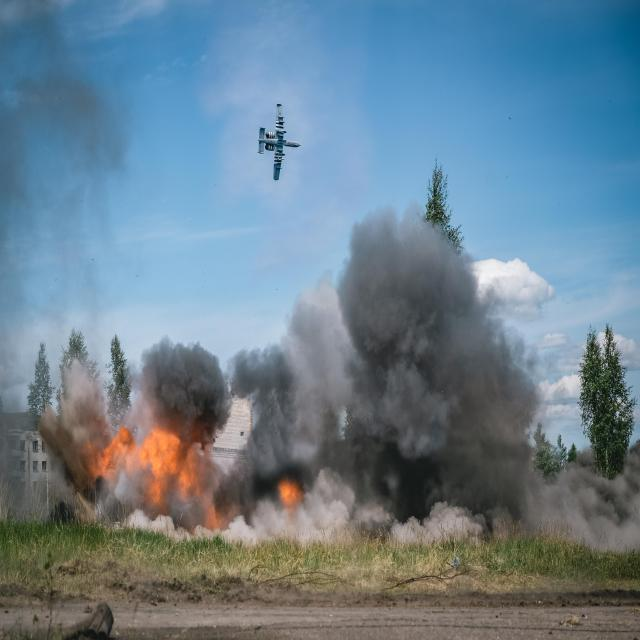MIL_Plane: (256, 104, 300, 180)
